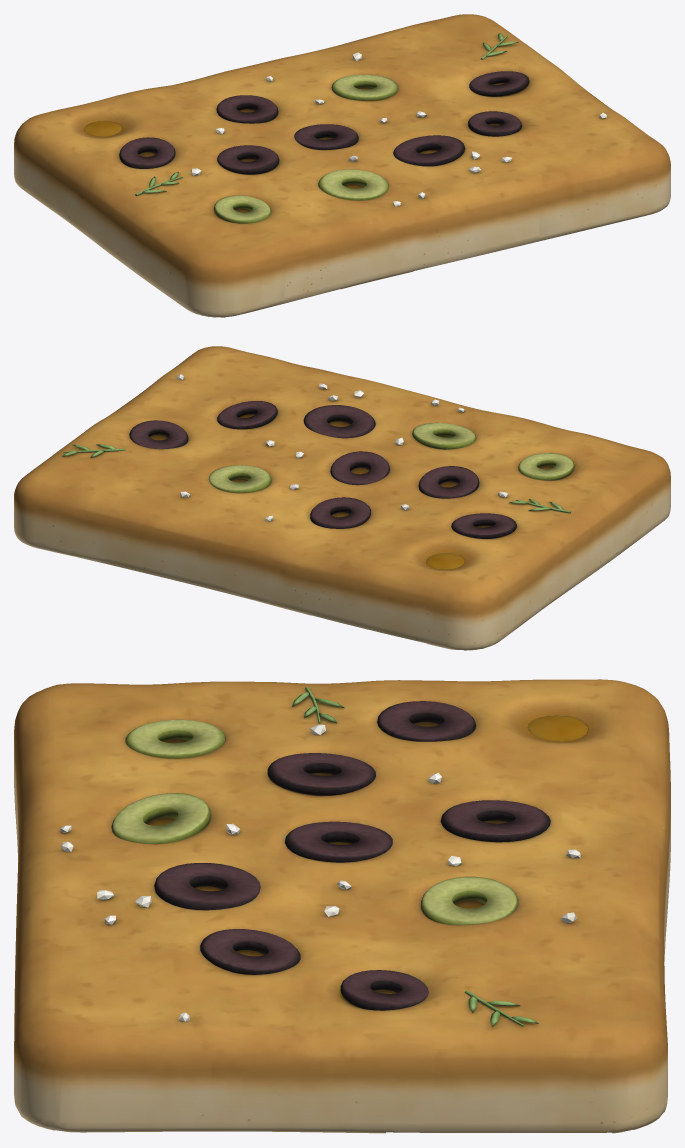
The model's file is focaccia--olive-slice.glb.
3 renders of one model, top to bottom at view 1: azimuth 30°, elevation 25°; view 2: azimuth 150°, elevation 25°; view 3: azimuth 270°, elevation 25°, orthographic. The views are drawn at different scales.
Visible parts, largest first — view 1: focaccia_olive-slice; view 2: focaccia_olive-slice; view 3: focaccia_olive-slice.
Boxes of the visible parts, x1,y1,x2,y2 form: focaccia_olive-slice: [14, 14, 670, 317]; focaccia_olive-slice: [14, 346, 670, 650]; focaccia_olive-slice: [14, 679, 670, 1133].
Size of the model in its own units: 1.01 by 0.1357 by 0.7441.
Materials: 1 (1 with a texture image).
